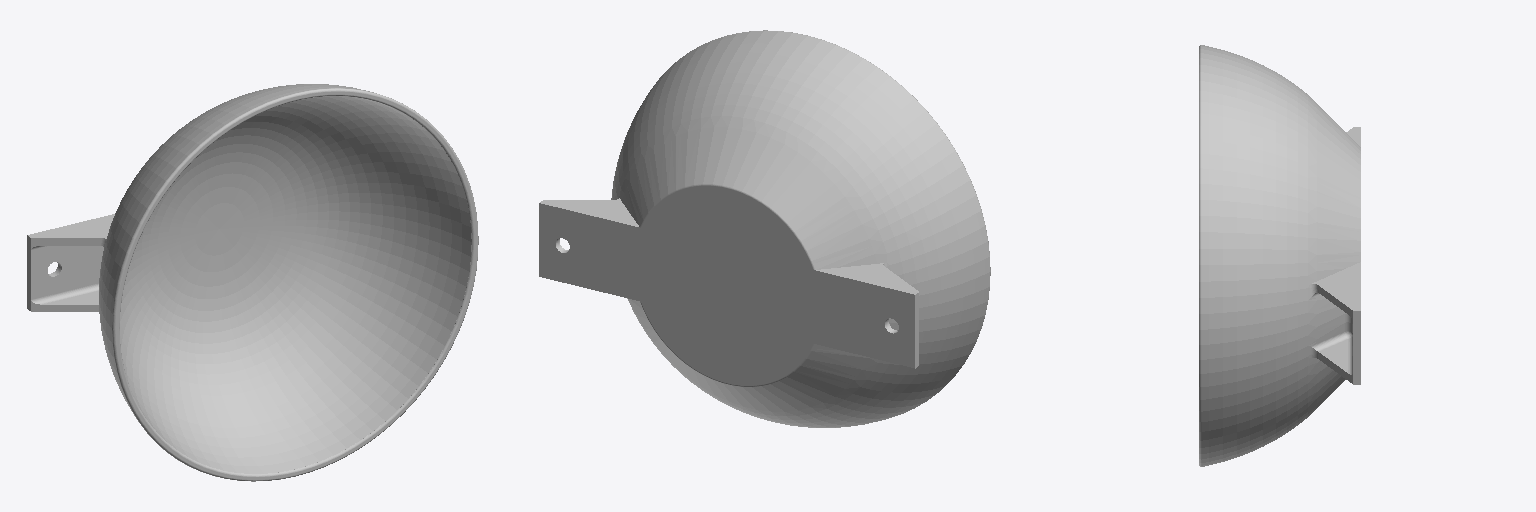
The model's file is fine_bowl.obj.
3 renders of one model, left to right at view 1: azimuth 30°, elevation 25°; view 2: azimuth 150°, elevation 25°; view 3: azimuth 270°, elevation 25°, orthographic.
Parts seen in each view (by area): view 1: mesh0, mesh4, mesh3, mesh41, mesh1, mesh2, mesh32, mesh36; view 2: mesh4, mesh30, mesh5, mesh6, mesh10, mesh32; view 3: mesh4, mesh5, mesh3, mesh10, mesh20, mesh6, mesh11.
Part boxes in pixels (left/top/right/bottom): mesh0: left=120, top=96, right=471, bottom=473; mesh4: left=99, top=84, right=373, bottom=418; mesh3: left=112, top=88, right=478, bottom=481; mesh41: left=31, top=246, right=103, bottom=299; mesh1: left=118, top=94, right=474, bottom=476; mesh2: left=116, top=92, right=476, bottom=479; mesh32: left=28, top=214, right=114, bottom=238; mesh36: left=31, top=238, right=101, bottom=248; mesh4: left=611, top=31, right=989, bottom=427; mesh30: left=539, top=186, right=914, bottom=385; mesh5: left=622, top=127, right=876, bottom=269; mesh6: left=630, top=299, right=869, bottom=411; mesh10: left=540, top=198, right=638, bottom=226; mesh32: left=816, top=263, right=918, bottom=294; mesh4: left=1202, top=45, right=1316, bottom=466; mesh5: left=1317, top=104, right=1360, bottom=280; mesh3: left=1199, top=45, right=1201, bottom=466; mesh10: left=1312, top=262, right=1360, bottom=310; mesh20: left=1317, top=294, right=1343, bottom=342; mesh6: left=1317, top=359, right=1345, bottom=407; mesh11: left=1353, top=311, right=1360, bottom=384.
Bounding box in the file's own units: 0.16 × 0.1556 × 0.06.